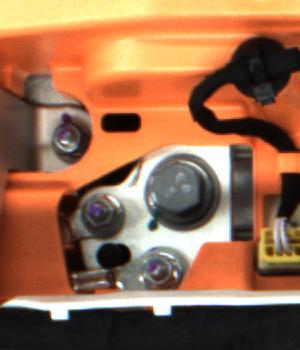nut_b: (143, 150, 222, 230)
screw_s: (47, 117, 89, 161), (80, 195, 122, 226), (141, 252, 175, 287)
